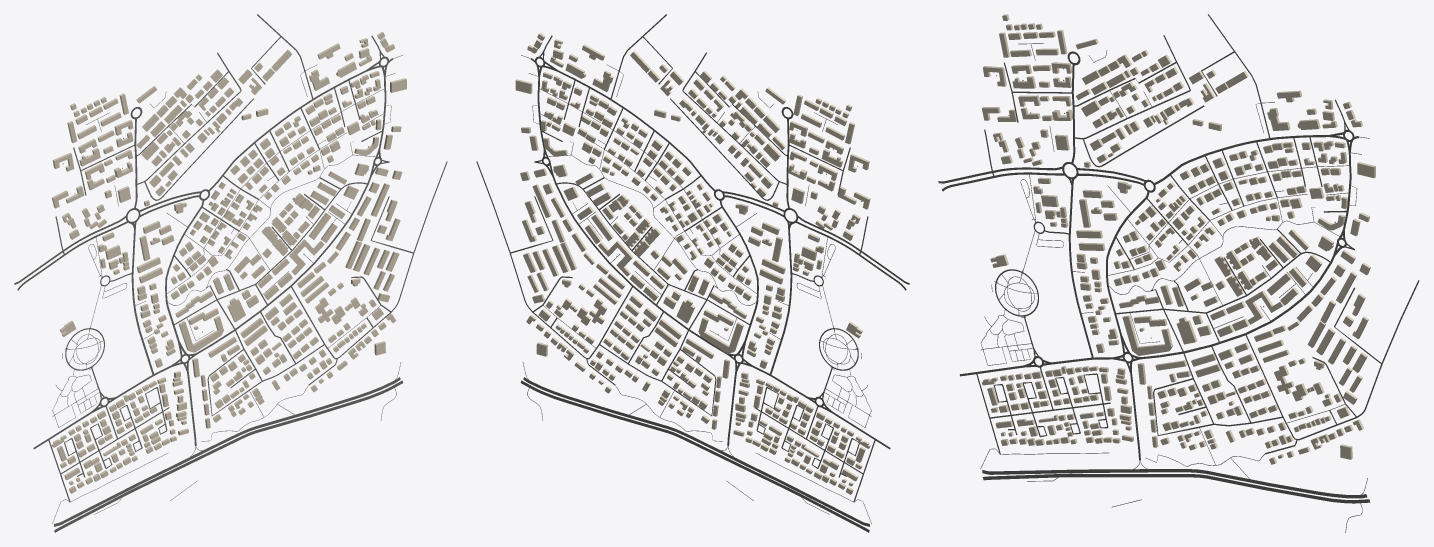
Rendered from historic-palestine-06_22_3476_3160.glb.
3 views of the same model, side by side, from view 1: azimuth 30°, elevation 25°; view 2: azimuth 150°, elevation 25°; view 3: azimuth 330°, elevation 25° (orthographic). The views are drawn at different scales.
Visible parts, largest first — view 1: Road הדרום, Road הדרום.001, Building_.190, Road הרימון; view 2: Road הדרום, Road הדרום.001, Building_.190, Road הרימון; view 3: Road הדרום, Road הדרום.001, Building_.190, Road הרימון.
Boxes of the visible parts, left/top/right/bottom form: Road הדרום: left=54, top=380, right=403, bottom=532; Road הדרום.001: left=54, top=377, right=400, bottom=526; Building_.190: left=178, top=316, right=223, bottom=352; Road הרימון: left=196, top=176, right=371, bottom=354; Road הדרום: left=520, top=380, right=869, bottom=532; Road הדרום.001: left=523, top=377, right=869, bottom=526; Building_.190: left=698, top=317, right=743, bottom=353; Road הרימון: left=552, top=176, right=726, bottom=354; Road הדרום: left=982, top=473, right=1370, bottom=503; Road הדרום.001: left=982, top=469, right=1367, bottom=498; Building_.190: left=1122, top=315, right=1172, bottom=355; Road הרימון: left=1140, top=255, right=1334, bottom=359.
Bounding box in the file's own units: 1205 × 1248 × 13.6.
